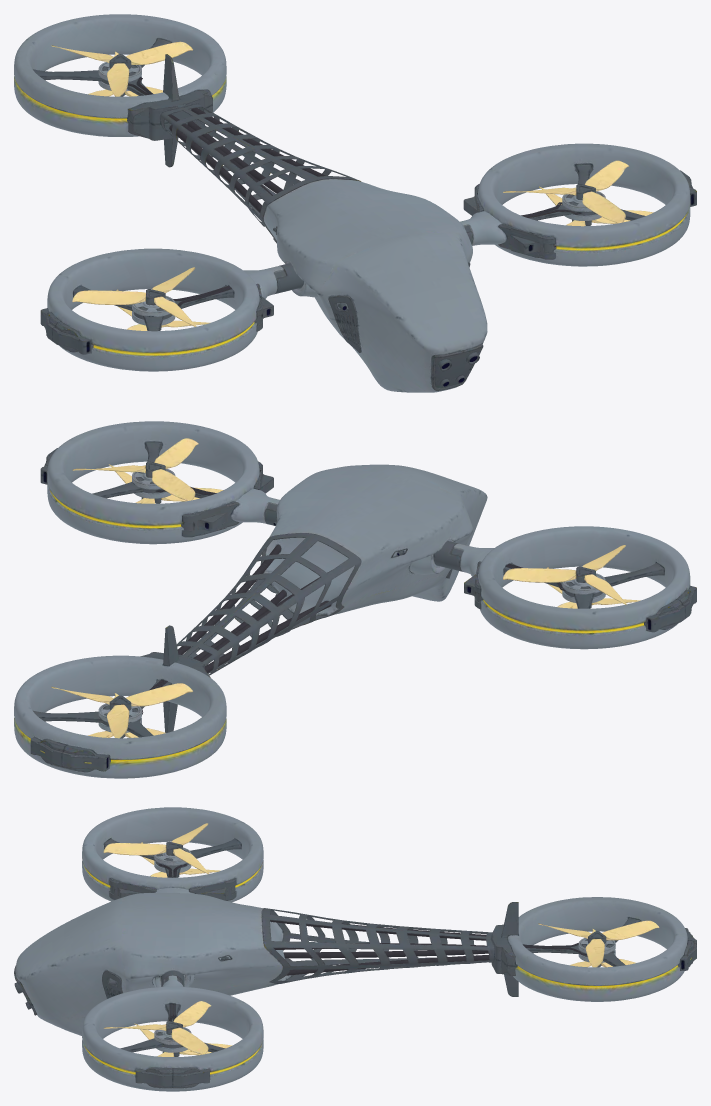
File: sci-_fi_surveillance_drone.glb
The picture shows the model from 3 angles, top to bottom: view 1: azimuth 30°, elevation 25°; view 2: azimuth 150°, elevation 25°; view 3: azimuth 270°, elevation 25°; orthographic projection. The views are drawn at different scales.
Visible parts, largest first — view 1: Sci-Fi Surveillance Drone_Sci-Fi Surveillance Drone_0; view 2: Sci-Fi Surveillance Drone_Sci-Fi Surveillance Drone_0; view 3: Sci-Fi Surveillance Drone_Sci-Fi Surveillance Drone_0.
Part boxes in pixels (x1,y1,x2,y2): Sci-Fi Surveillance Drone_Sci-Fi Surveillance Drone_0: (14,14,696,392); Sci-Fi Surveillance Drone_Sci-Fi Surveillance Drone_0: (14,421,696,778); Sci-Fi Surveillance Drone_Sci-Fi Surveillance Drone_0: (14,807,696,1091).
Bounding box in the file's own units: 11.76 × 2.64 × 12.88.
Materials: 1 (1 with a texture image).
